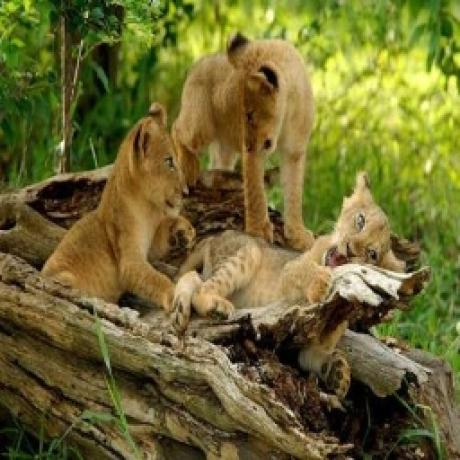Lion: (175, 169, 408, 317), (42, 101, 193, 308), (177, 31, 315, 253)
